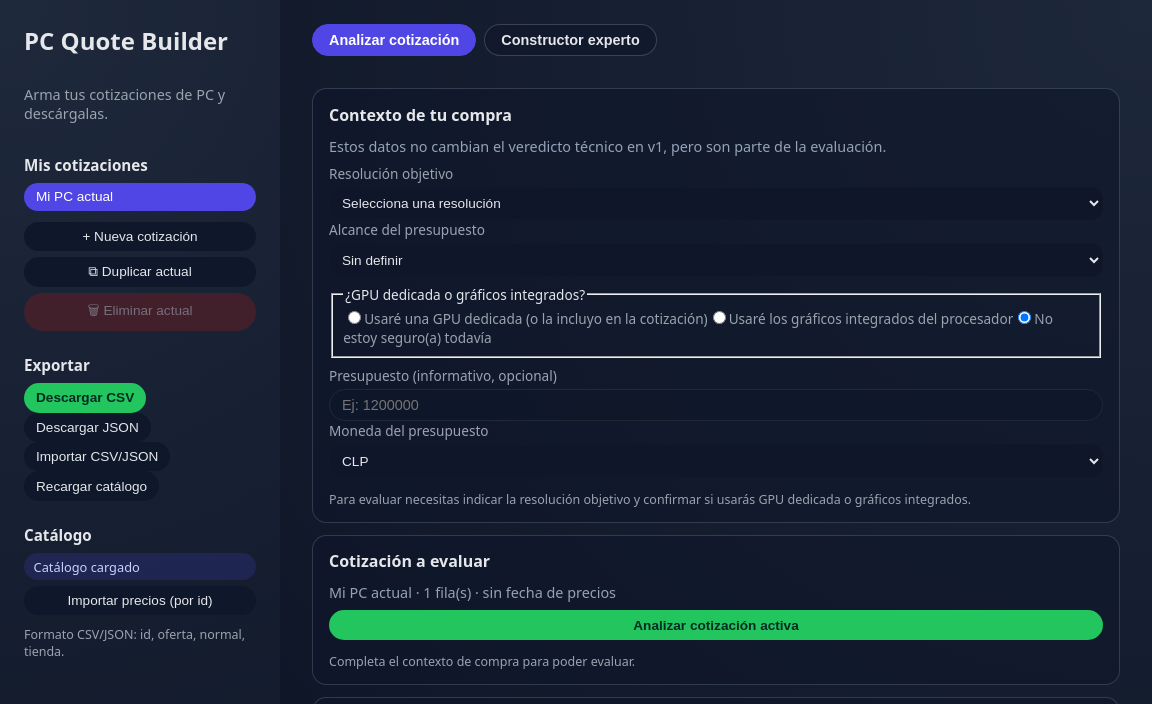
Test case: Builder assessment and compatibility display › shows 'Paso a paso' when builder is incomplete
Click the button "Constructor experto".
click(571, 40)  # box [484,24,657,56]
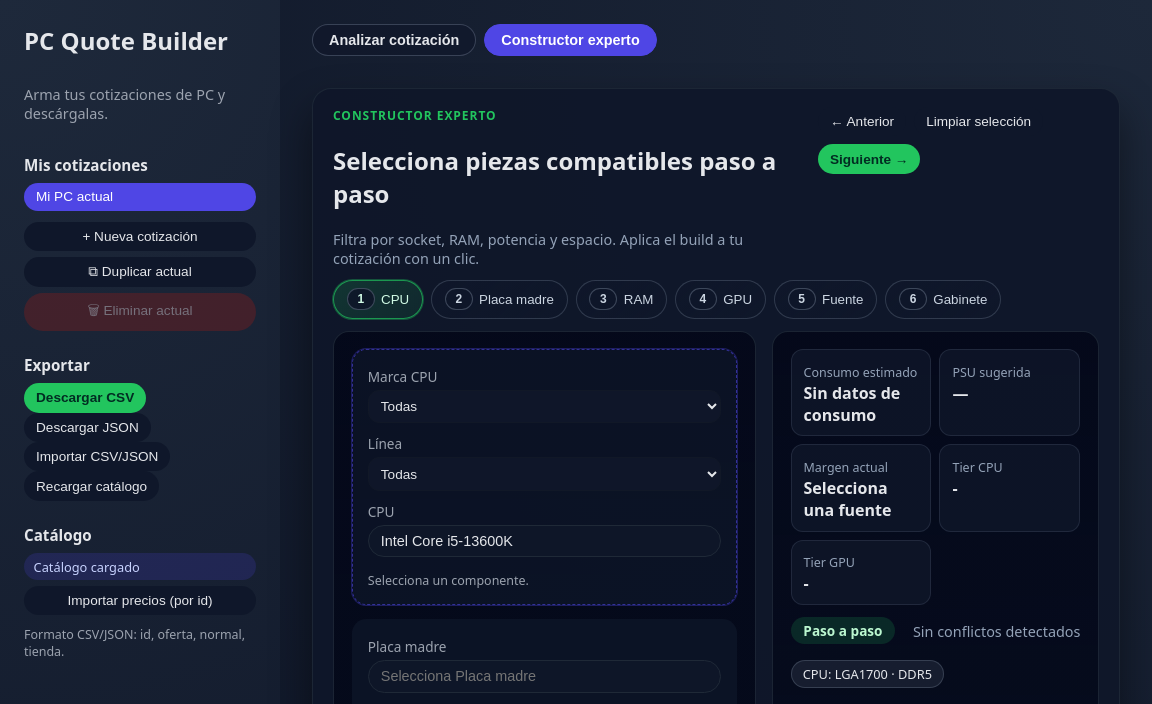
Expected: the text "Paso a paso" is shown, [790,617,895,644]
